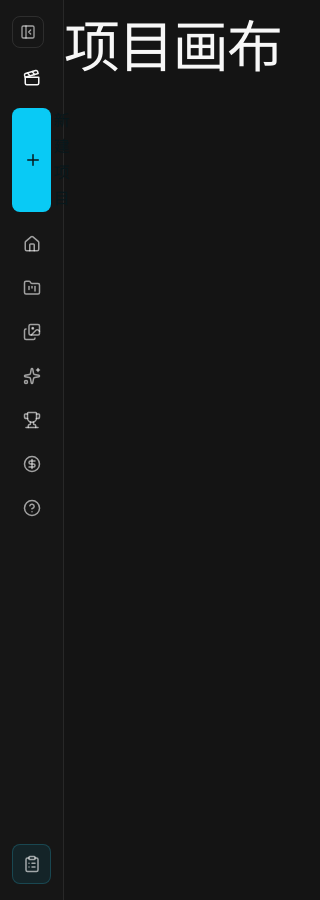
Test: platform shell › keeps the Liblib navigation structure in the workspace rail
Click the button named "收起平台导航" at (28, 32), box [12,16,44,48]
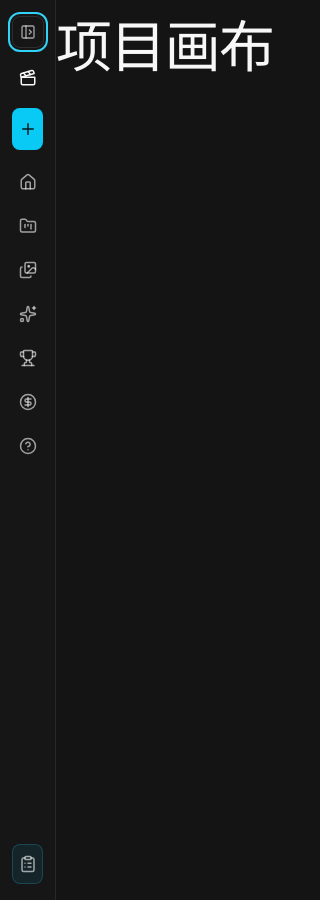
Expected: the button named "展开平台导航" is shown, [12,16,44,48]
